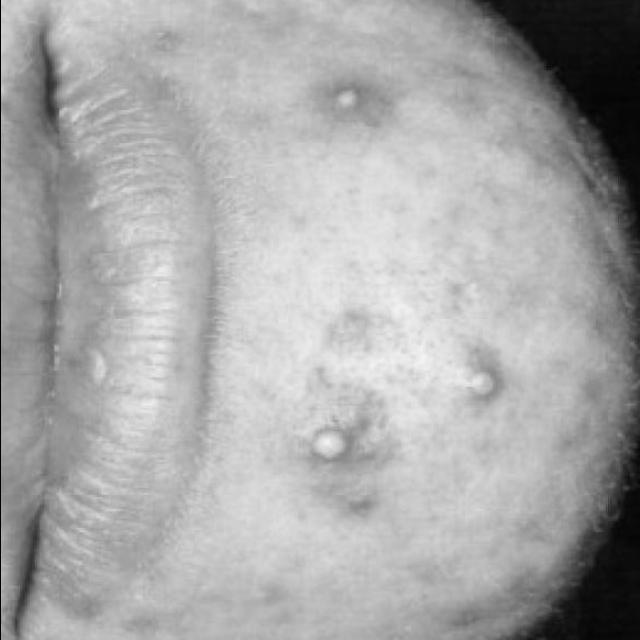pustule: (287, 33, 393, 133), (434, 336, 521, 425), (288, 398, 365, 481)
